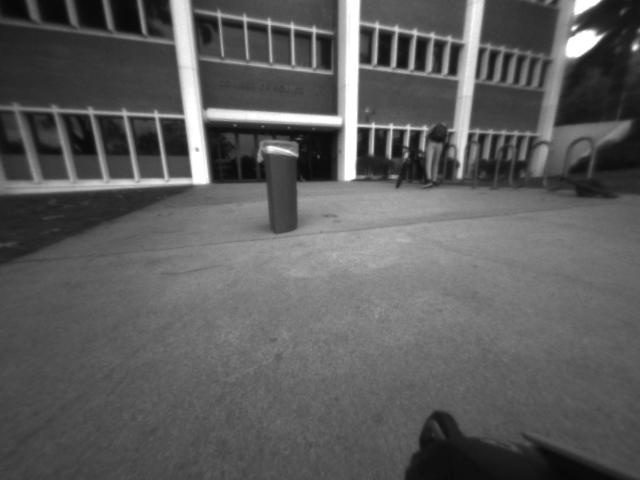trashcan: (256, 135, 311, 240)
